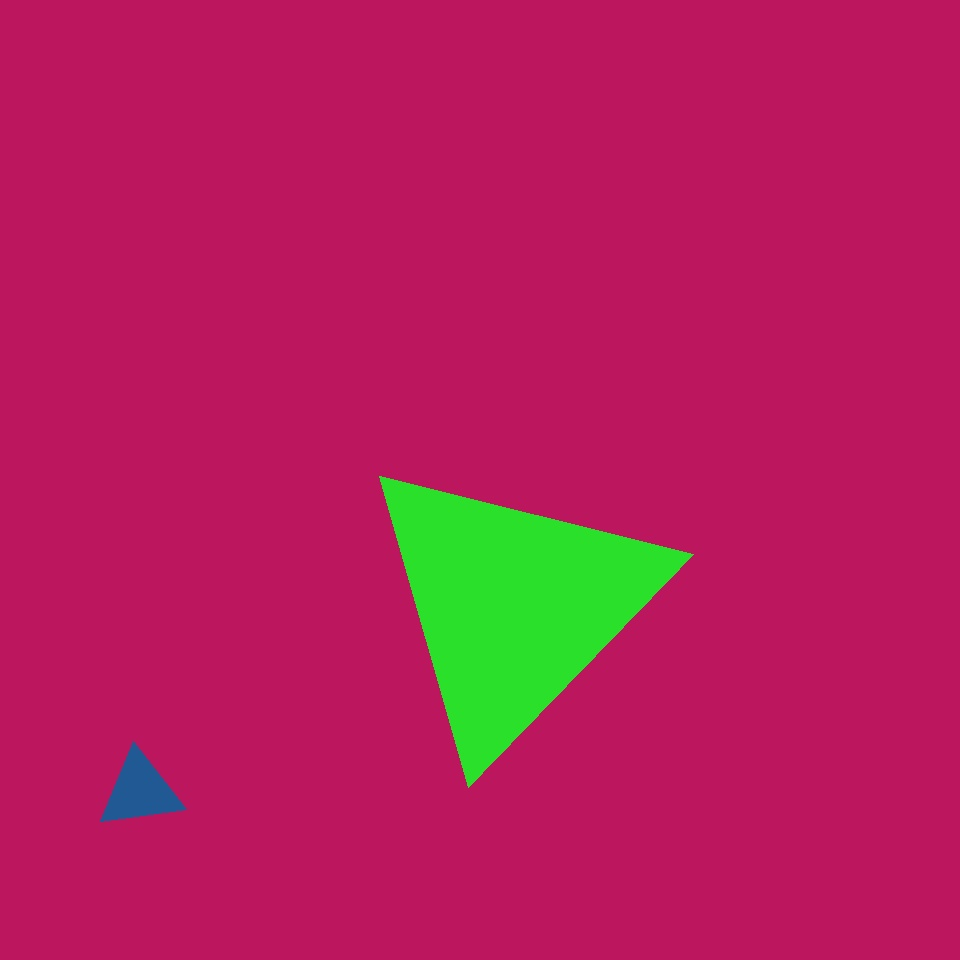circle: (357, 450, 671, 762), (413, 777, 532, 913), (97, 751, 183, 831)
triangle: (228, 384, 589, 745)
